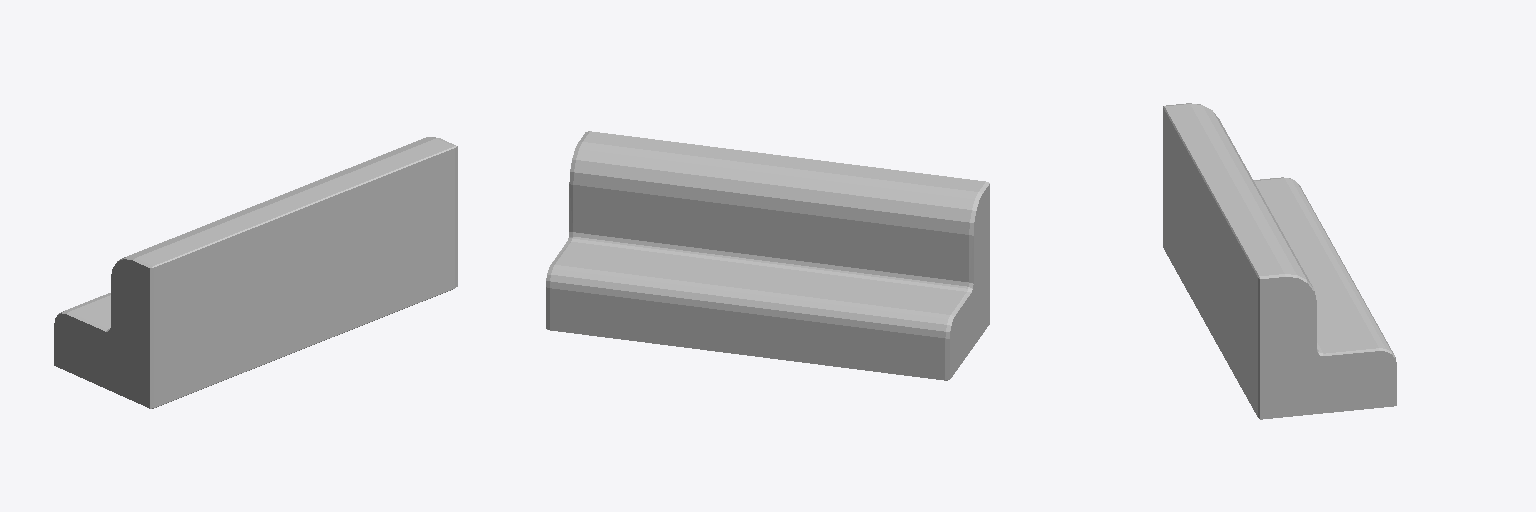
File: seat_16.obj
3 renders of one model, left to right at view 1: azimuth 30°, elevation 25°; view 2: azimuth 150°, elevation 25°; view 3: azimuth 270°, elevation 25°, orthographic.
Parts seen in each view (by area): view 1: Cadeira1.015_Cube.015; view 2: Cadeira1.015_Cube.015; view 3: Cadeira1.015_Cube.015.
Part boxes in pixels (x1,y1,x2,y2): Cadeira1.015_Cube.015: (54, 137, 457, 408); Cadeira1.015_Cube.015: (546, 131, 989, 380); Cadeira1.015_Cube.015: (1163, 103, 1396, 419).
Size of the model in its own units: 3.39 by 1.2 by 1.79.